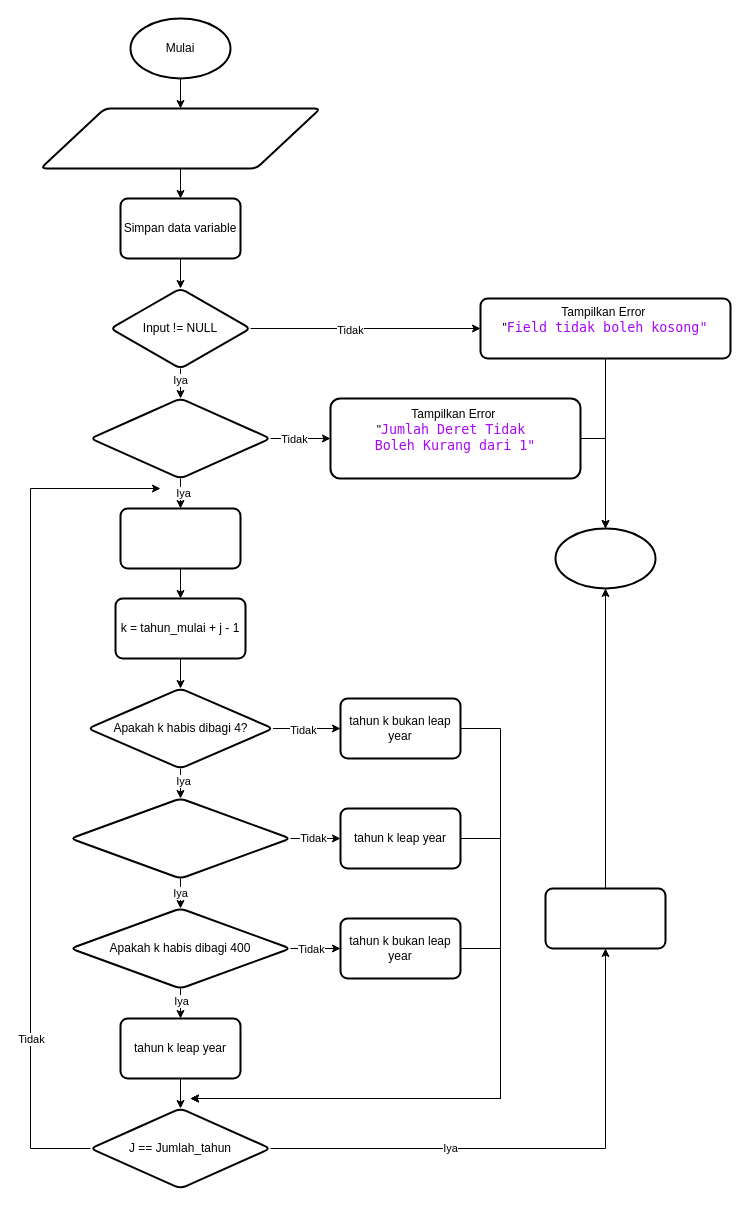
The diagram is 748 pixels wide and 1206 high, and some of its shapes have lost their labels. The box of each missing label's shape, as (x1, y1, x2, y2) in pixels:
Apakah k habis dibagi 100?: (69, 797, 291, 879)
Input Nilai jumlah_tahun: Input Nilai tahun_mulai:: (39, 107, 321, 169)
Jumlah_tahun || tahun mulai != 0: (89, 397, 271, 479)
Loop j = 1 sampai jumlah_tahun: (119, 507, 241, 569)
Selesai: (554, 527, 656, 589)
Tampilkan Data: (544, 887, 666, 949)
